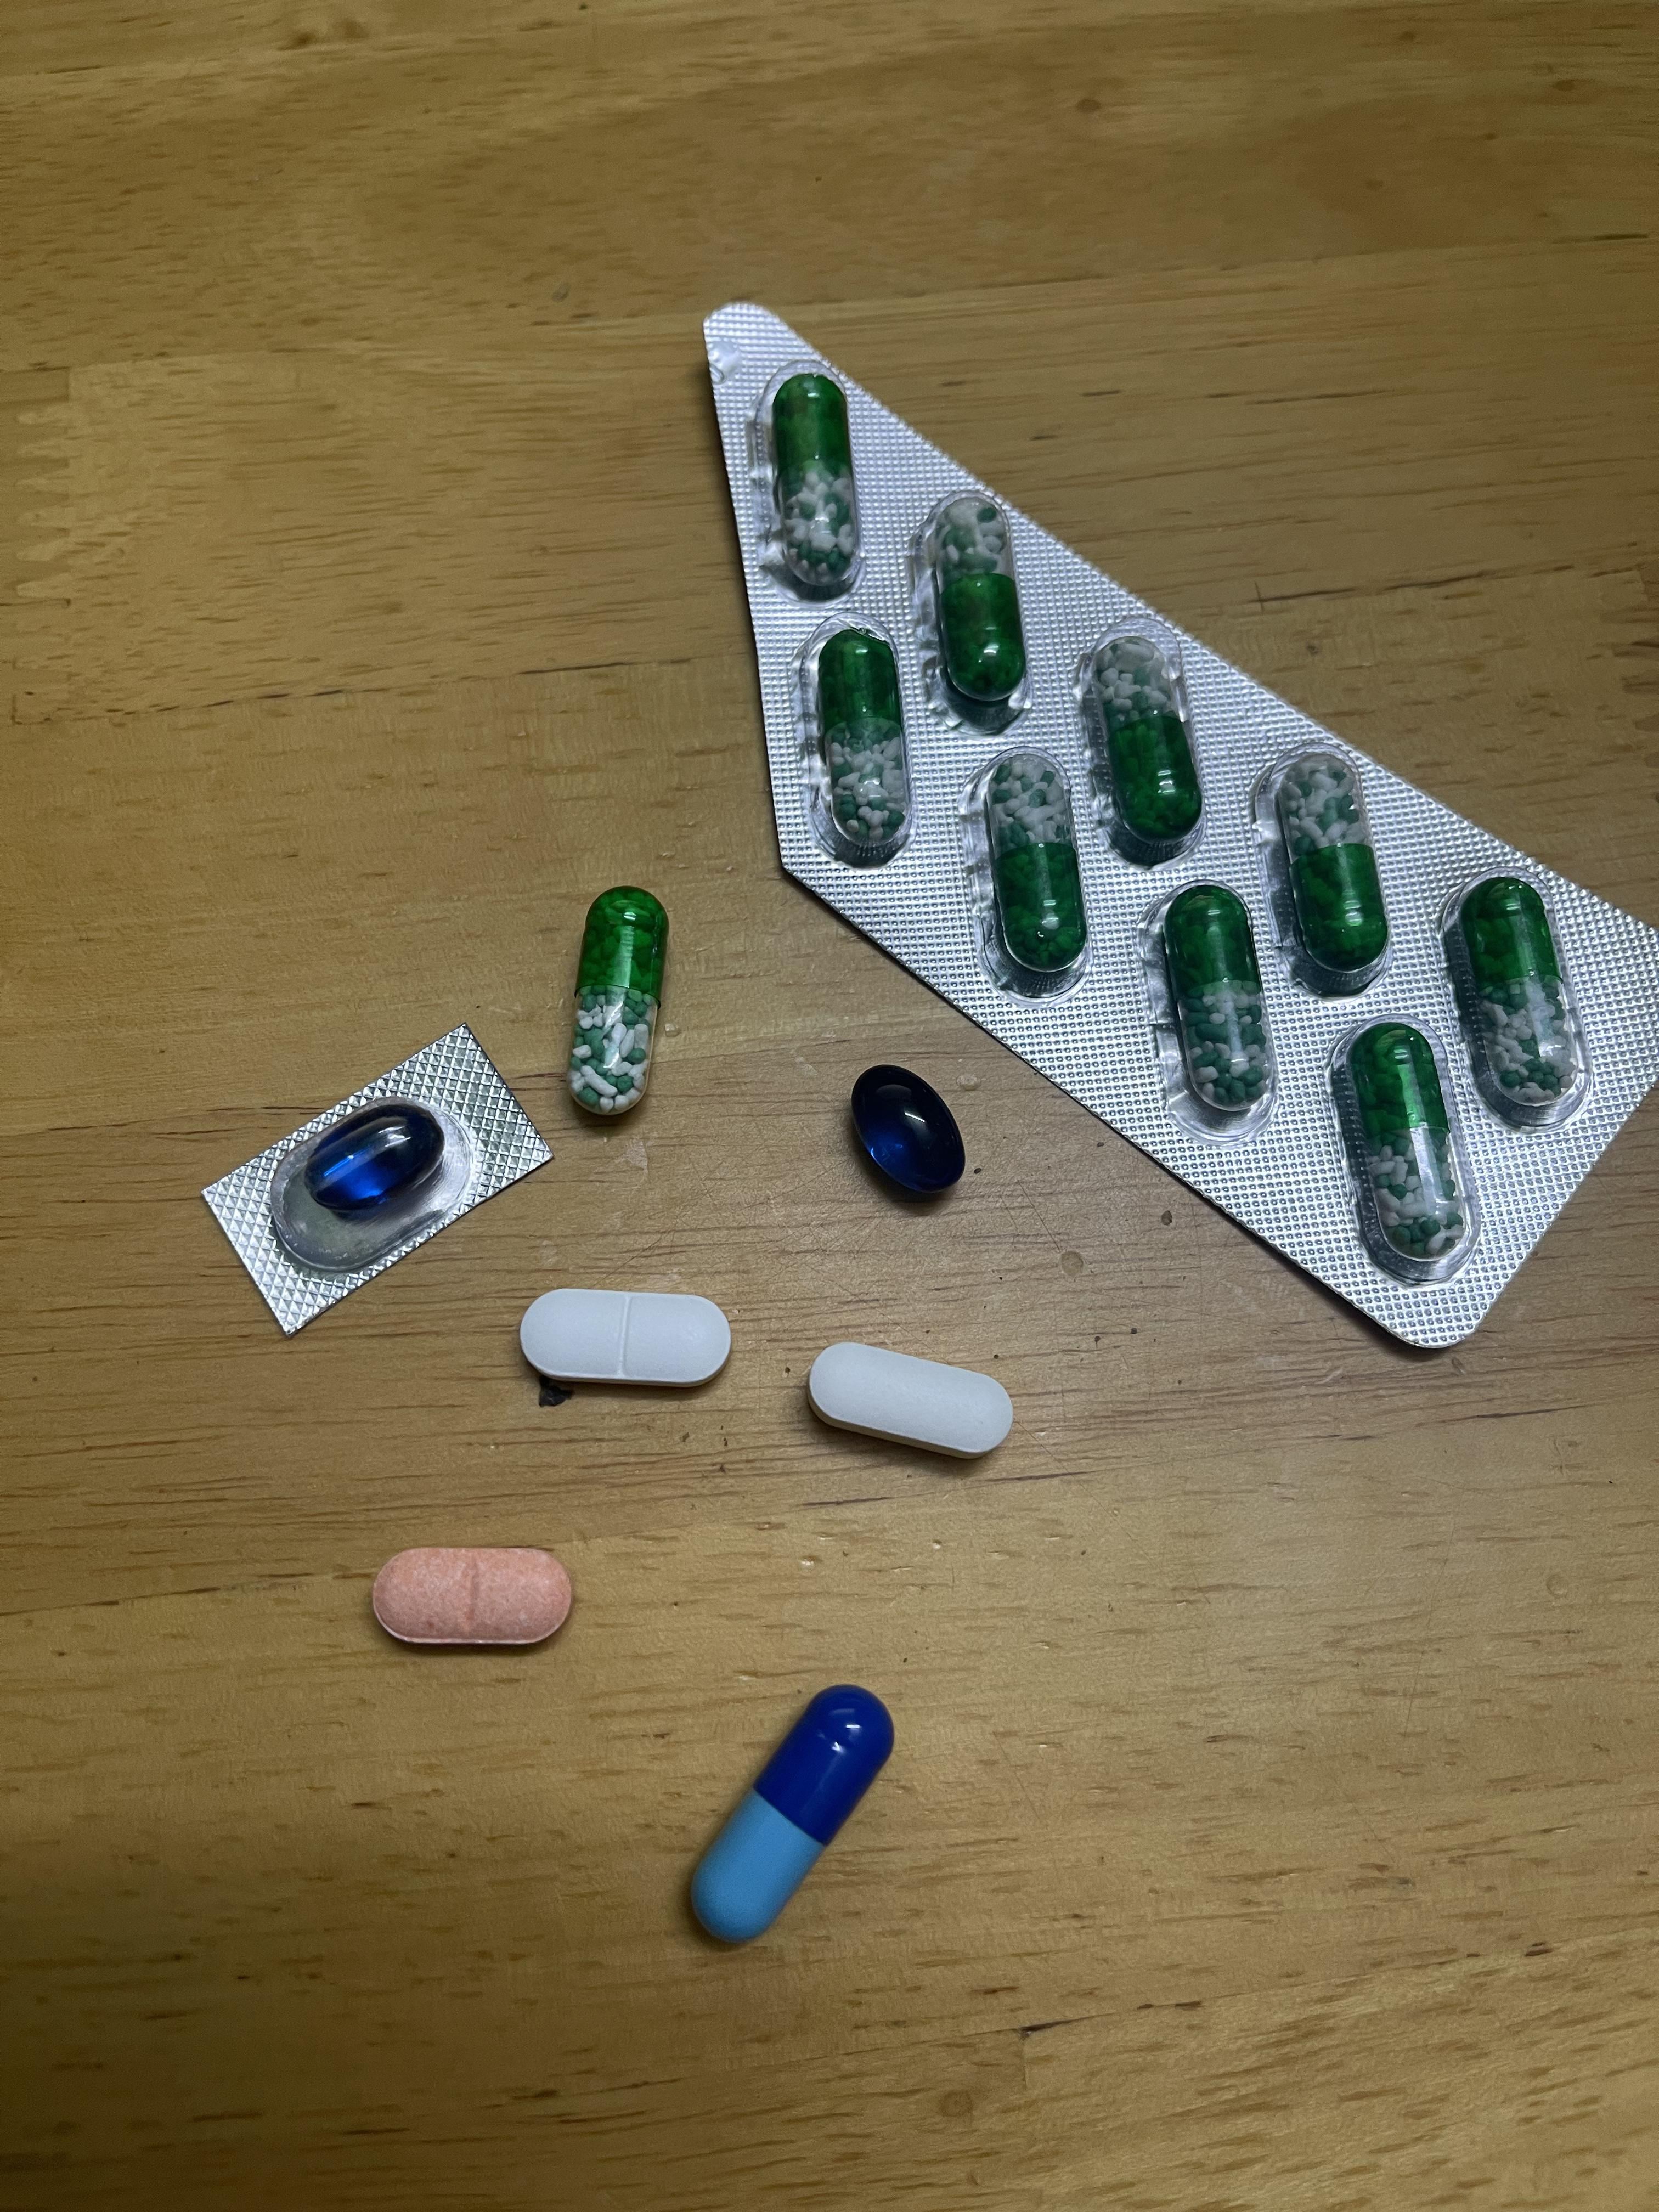Lincomyxin_500mg: (852, 1064, 967, 1198), (307, 1108, 439, 1211)
Loratadine_10mg: (369, 1545, 573, 1648)
Paracetamol_350mg: (519, 1285, 735, 1388)
Paracetamol_500mg: (812, 1343, 1009, 1456)
Paracetamol_650mg: (1446, 880, 1584, 1111), (1340, 1022, 1467, 1264), (1269, 754, 1391, 988), (1157, 888, 1276, 1125), (1079, 632, 1204, 855), (974, 759, 1089, 979), (917, 498, 1028, 719), (805, 629, 911, 859), (568, 888, 662, 1115), (765, 373, 857, 596)
pill: (692, 1689, 890, 1940)
